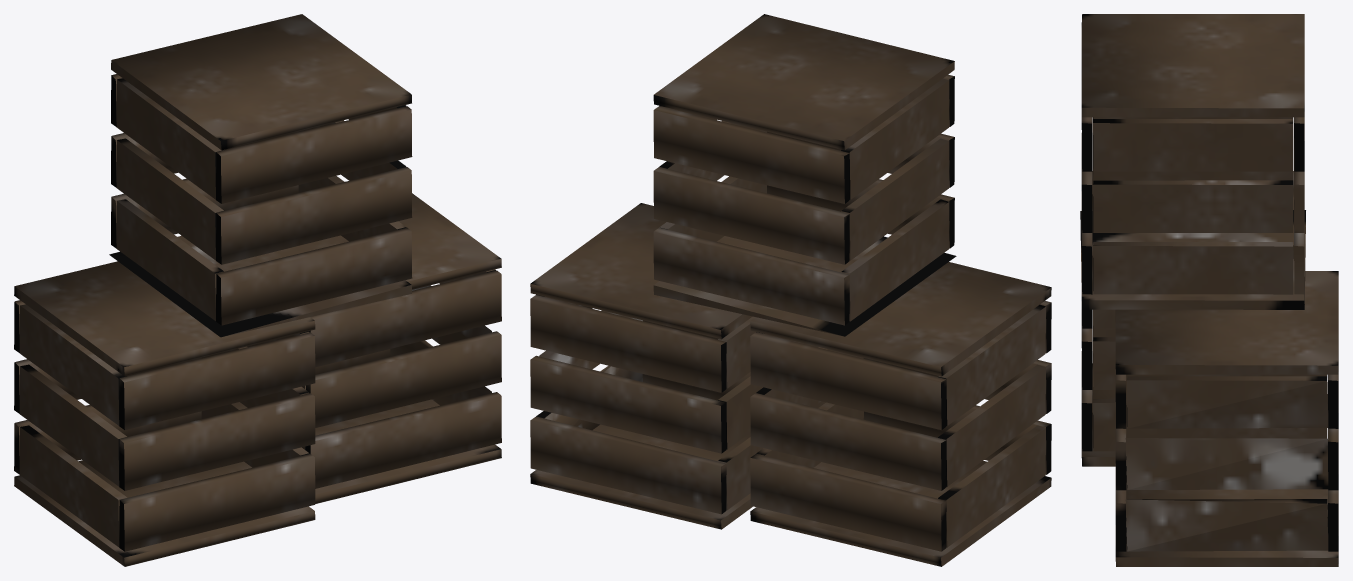
File: Prop_Cajones.fbx
3 renders of one model, left to right at view 1: azimuth 30°, elevation 25°; view 2: azimuth 150°, elevation 25°; view 3: azimuth 270°, elevation 25°, orthographic.
Parts seen in each view (by area): view 1: Prop_Cajones; view 2: Prop_Cajones; view 3: Prop_Cajones.
Part boxes in pixels (x1,y1,x2,y2): Prop_Cajones: [14, 14, 501, 566]; Prop_Cajones: [530, 14, 1051, 566]; Prop_Cajones: [1080, 14, 1338, 566].
Size of the model in its own units: 4.08 by 3.98 by 2.29.
